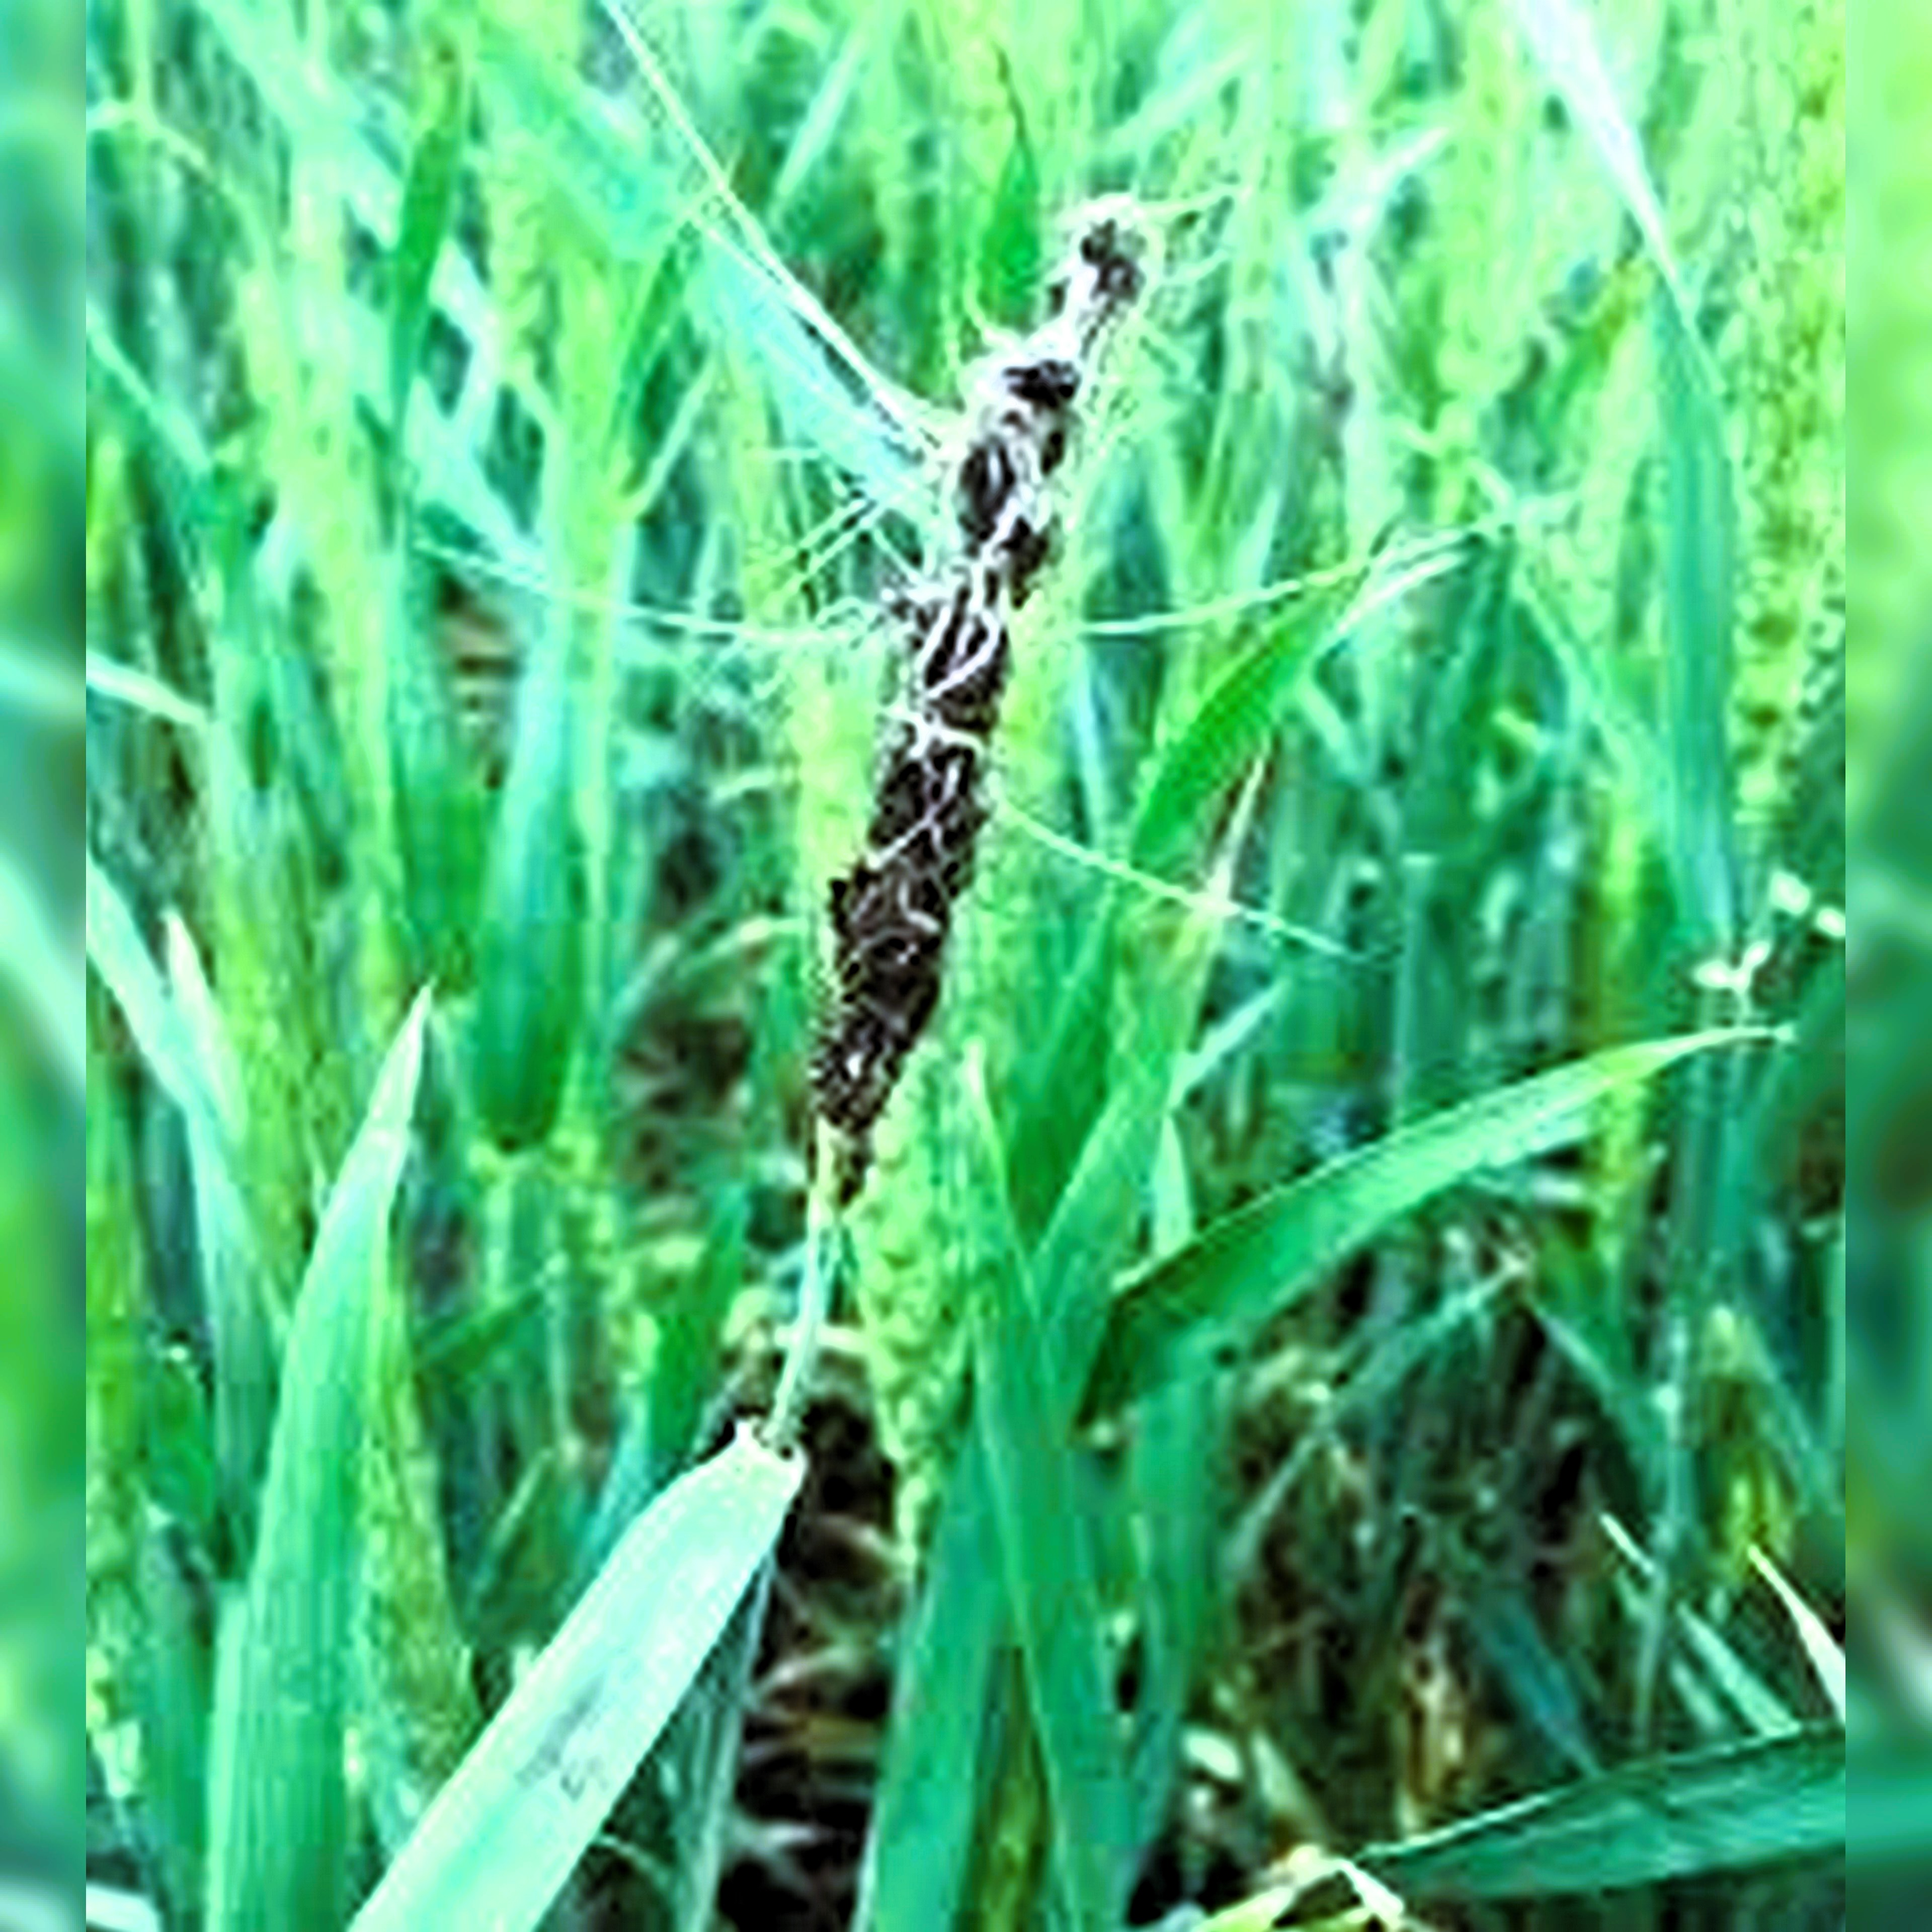Wheat Loose Smut: (793, 216, 1196, 1111)
